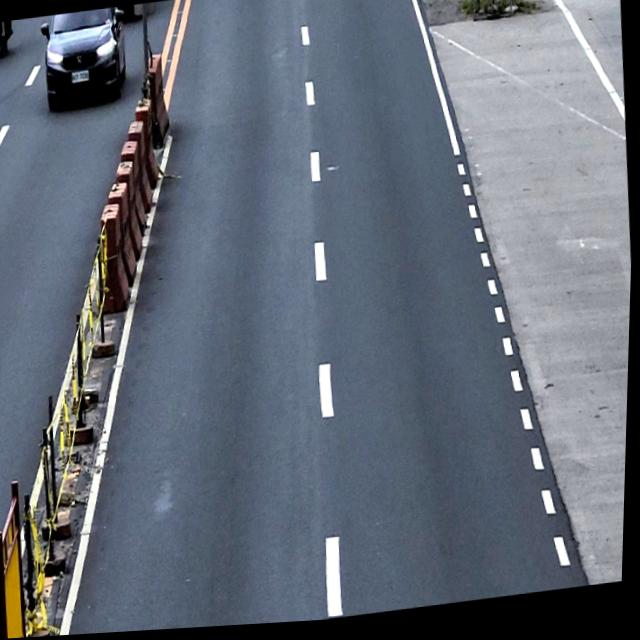Car: (37, 7, 130, 112)
License-Plate: (70, 68, 90, 85)
